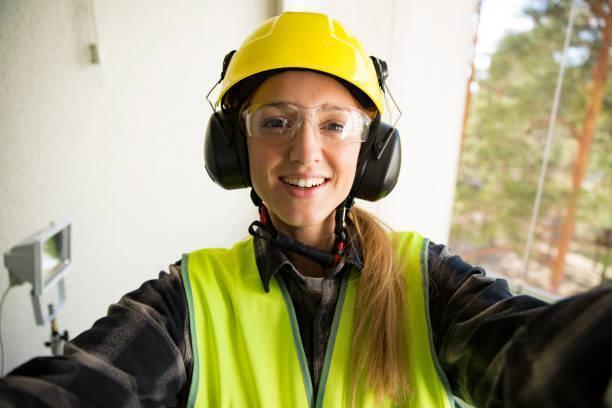helmet: (214, 11, 384, 117)
